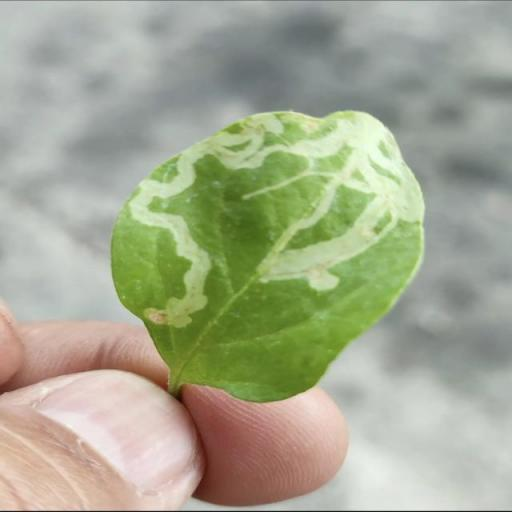disease_tomato: (112, 108, 424, 404)
